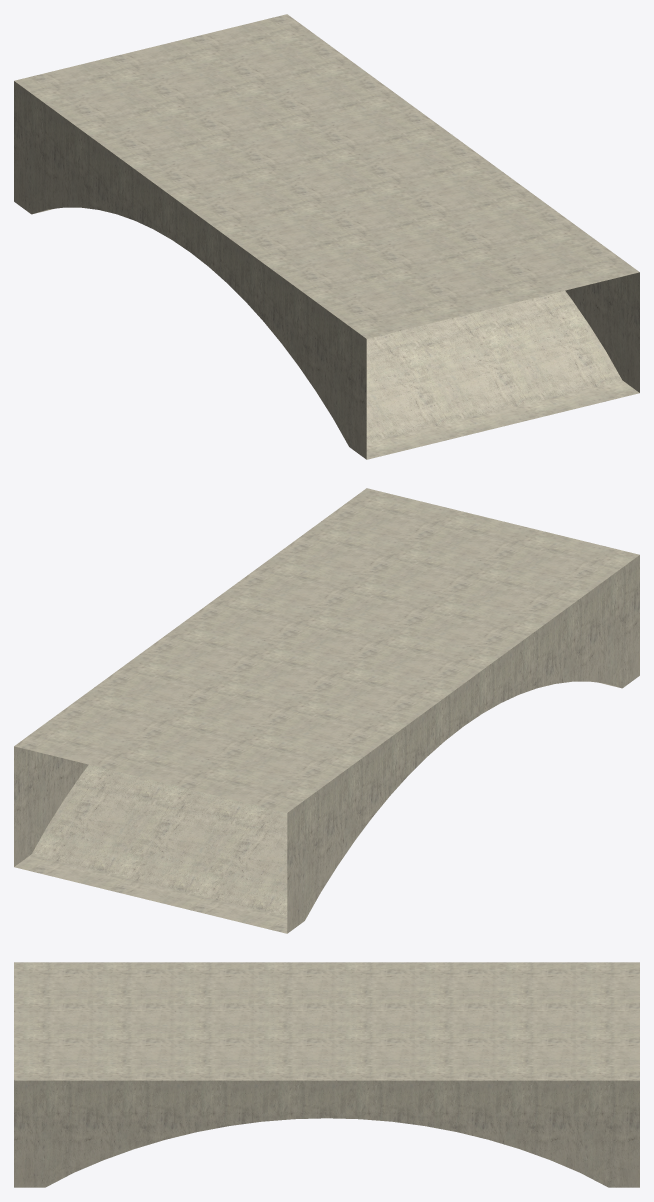
File: BridgeBase7-2L-40M.fbx
3 views of the same model, one above another, from view 1: azimuth 30°, elevation 25°; view 2: azimuth 150°, elevation 25°; view 3: azimuth 270°, elevation 25° (orthographic). The views are drawn at different scales.
Visible parts, largest first — view 1: BridgeBase7-2L-40M; view 2: BridgeBase7-2L-40M; view 3: BridgeBase7-2L-40M.
Part boxes in pixels (bbox=[...]): BridgeBase7-2L-40M: bbox=[14, 14, 639, 459]; BridgeBase7-2L-40M: bbox=[14, 488, 639, 933]; BridgeBase7-2L-40M: bbox=[14, 962, 639, 1187].
Size of the model in its own units: 18 by 7.61 by 40.24.
